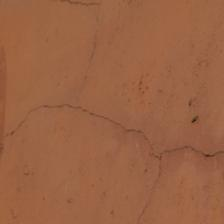Crack: (1, 99, 223, 164), (135, 156, 170, 222)
